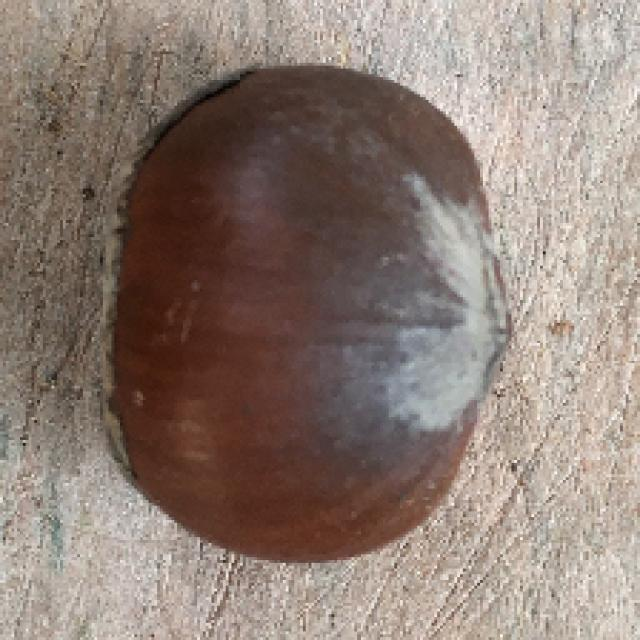damagedHazelnut: (84, 47, 521, 571)
